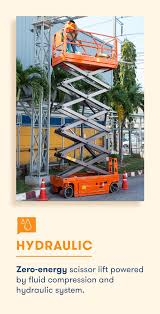Scissor Lift: (50, 27, 117, 200)
